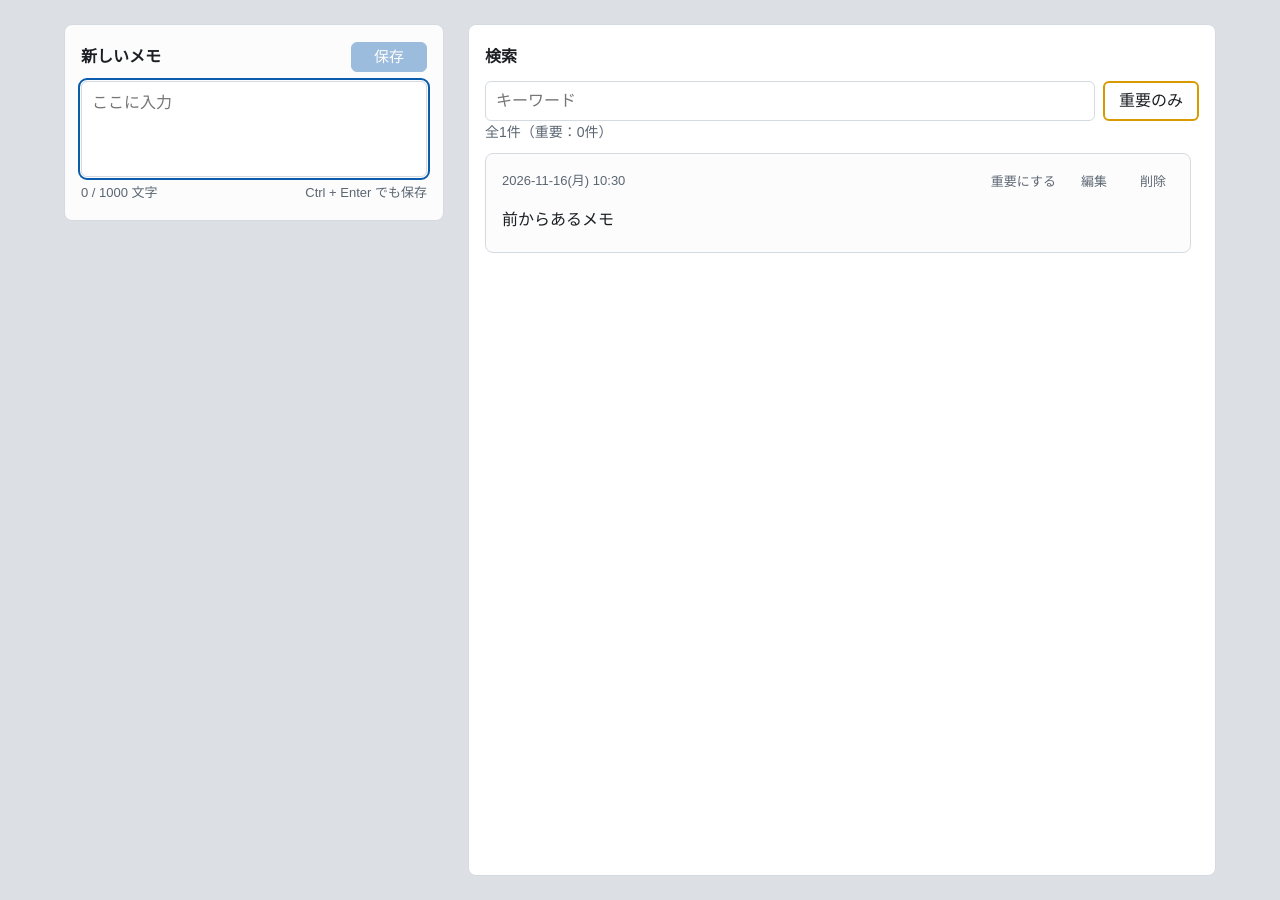
Test: 登録（F1） › 保存に失敗したら、メッセージを出し、書いた文章は消さず、一覧も変えない
This screenshot has width=1280, height=900.
Expected: the text "前からあるメモ" is shown, [502, 211, 614, 228]
Type "書きかけの文章" into the text box named "新しいメモの本文" at (254, 129), box [81, 81, 427, 177]
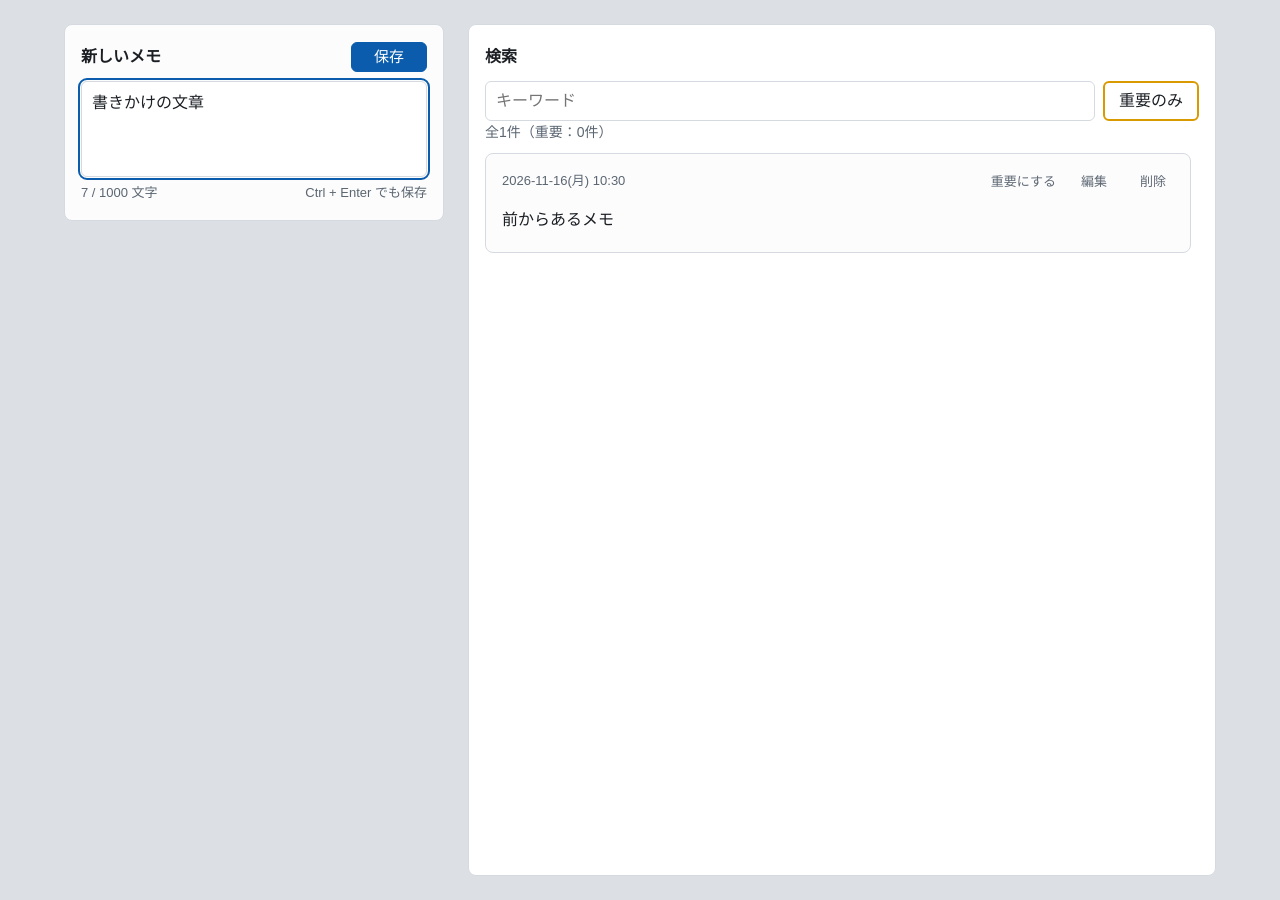
Click the button "保存" at (389, 57), box [351, 42, 427, 72]
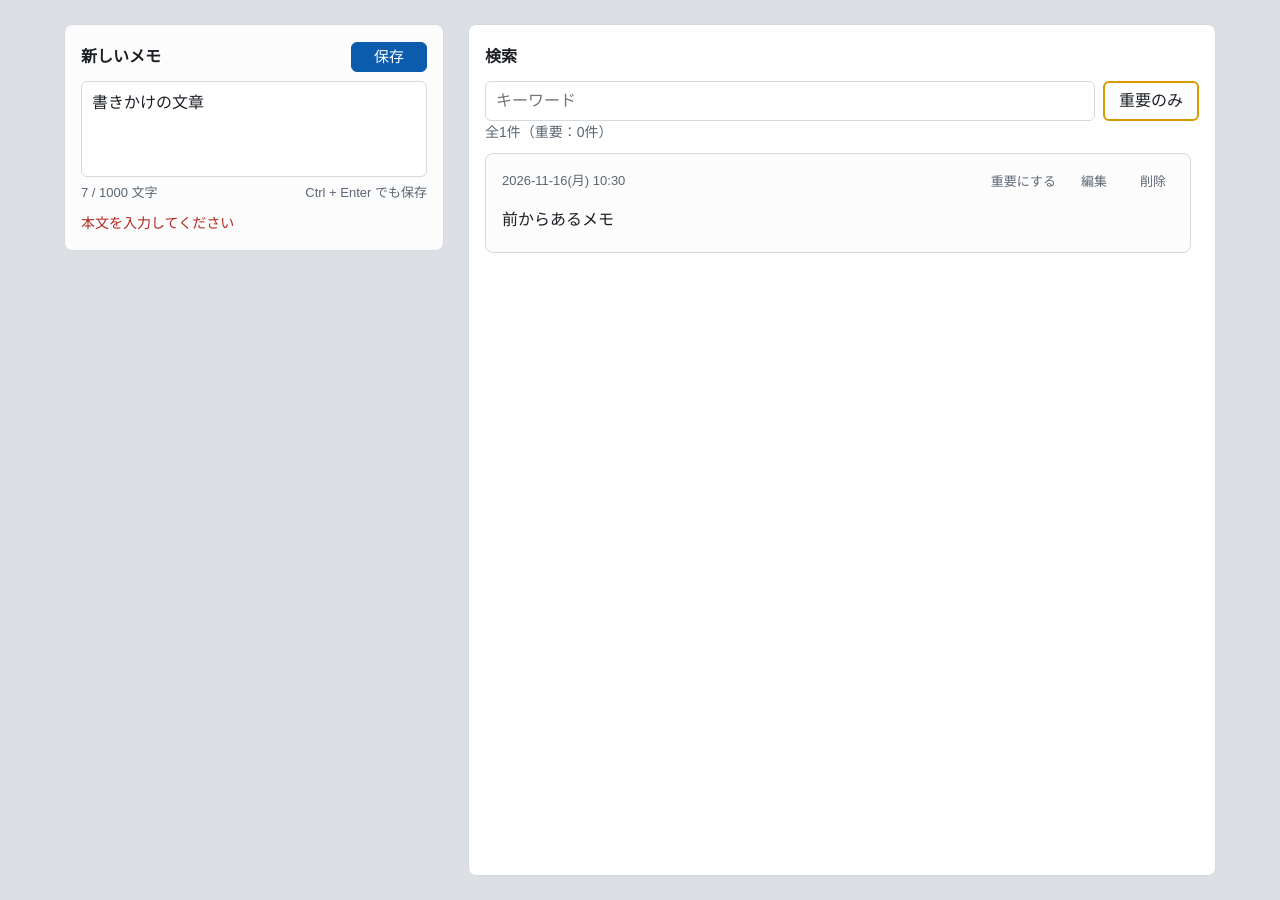
Now the message reads "本文を入力してください", box [81, 215, 234, 231]
